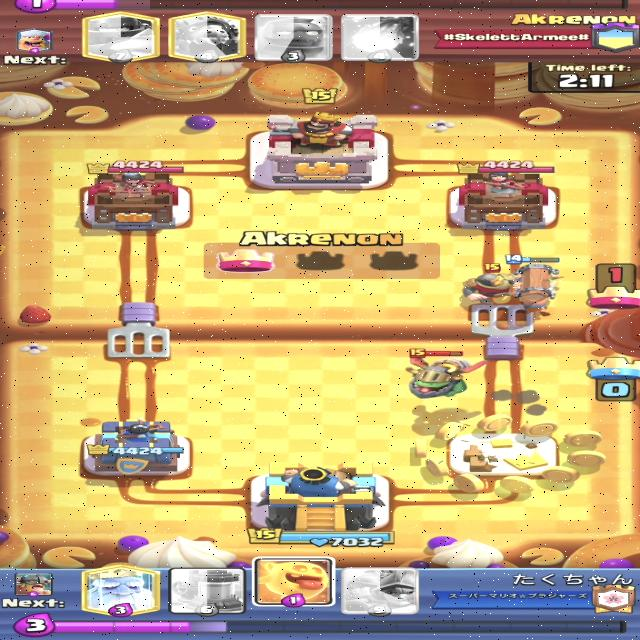Enemy-InfernoDragon: (396, 348, 490, 399)
Enemy-Knight: (458, 262, 531, 306)
Player-BattleRam: (505, 255, 563, 319)
